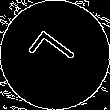L_SE: (26, 27, 84, 83)
